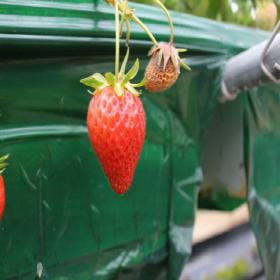Gray Mold: (144, 40, 179, 93)
